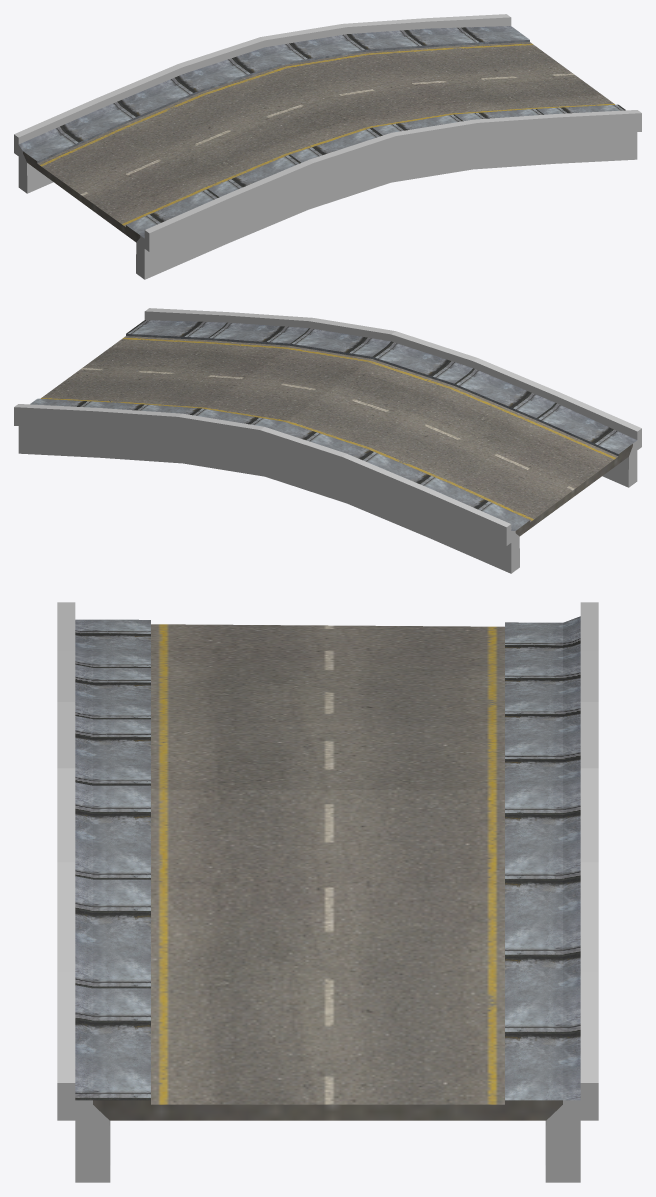
The model's file is Urban_Road1SmallBridge_Model.fbx.
3 views of the same model, one above another, from view 1: azimuth 30°, elevation 25°; view 2: azimuth 150°, elevation 25°; view 3: azimuth 270°, elevation 25° (orthographic). The views are drawn at different scales.
Parts seen in each view (by area): view 1: Urban_Road1SmallBridge_Mesh; view 2: Urban_Road1SmallBridge_Mesh; view 3: Urban_Road1SmallBridge_Mesh.
Boxes of the visible parts, <box> form: Urban_Road1SmallBridge_Mesh: <box>14,14,641,279</box>; Urban_Road1SmallBridge_Mesh: <box>14,308,641,573</box>; Urban_Road1SmallBridge_Mesh: <box>57,602,598,1182</box>.
Size of the model in its own units: 36 by 6.07 by 17.13.
